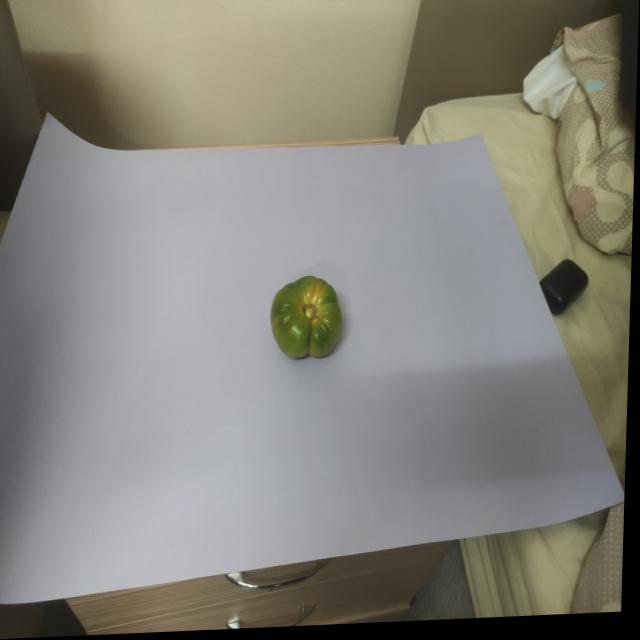yesil: (258, 269, 361, 359)
